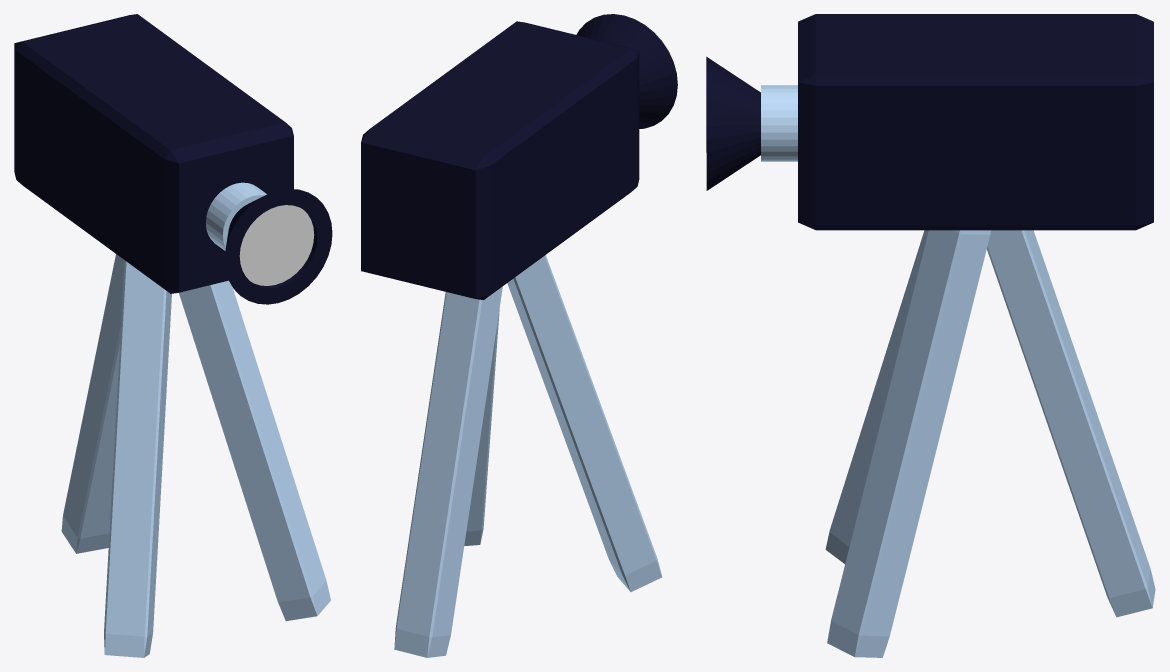
Rendered from filmProtector2.fbx.
3 renders of one model, left to right at view 1: azimuth 30°, elevation 25°; view 2: azimuth 150°, elevation 25°; view 3: azimuth 270°, elevation 25°, orthographic. The views are drawn at different scales.
Parts seen in each view (by area): view 1: Cube, Cube.002, Cube.001, Cylinder.001, Cube.003, Cylinder; view 2: Cube, Cube.003, Cube.002, Cylinder.001, Cube.001; view 3: Cube, Cube.001, Cube.003, Cylinder.001, Cube.002, Cylinder.
Part boxes in pixels (left/top/right/bottom): Cube: left=14, top=14, right=293, bottom=293; Cube.002: left=104, top=260, right=171, bottom=657; Cube.001: left=179, top=280, right=330, bottom=621; Cylinder.001: left=224, top=189, right=332, bottom=304; Cube.003: left=61, top=254, right=124, bottom=553; Cylinder: left=206, top=182, right=266, bottom=250; Cube: left=361, top=21, right=639, bottom=299; Cube.003: left=394, top=286, right=502, bottom=657; Cube.002: left=507, top=255, right=662, bottom=591; Cylinder.001: left=576, top=14, right=677, bottom=128; Cube.001: left=464, top=309, right=499, bottom=545; Cube: left=798, top=14, right=1153, bottom=230; Cube.001: left=827, top=230, right=990, bottom=657; Cube.003: left=987, top=230, right=1155, bottom=617; Cylinder.001: left=706, top=56, right=760, bottom=190; Cube.002: left=825, top=230, right=928, bottom=563; Cylinder: left=761, top=85, right=797, bottom=161.
Size of the model in its own units: 2.76 by 4.37 by 6.02.
